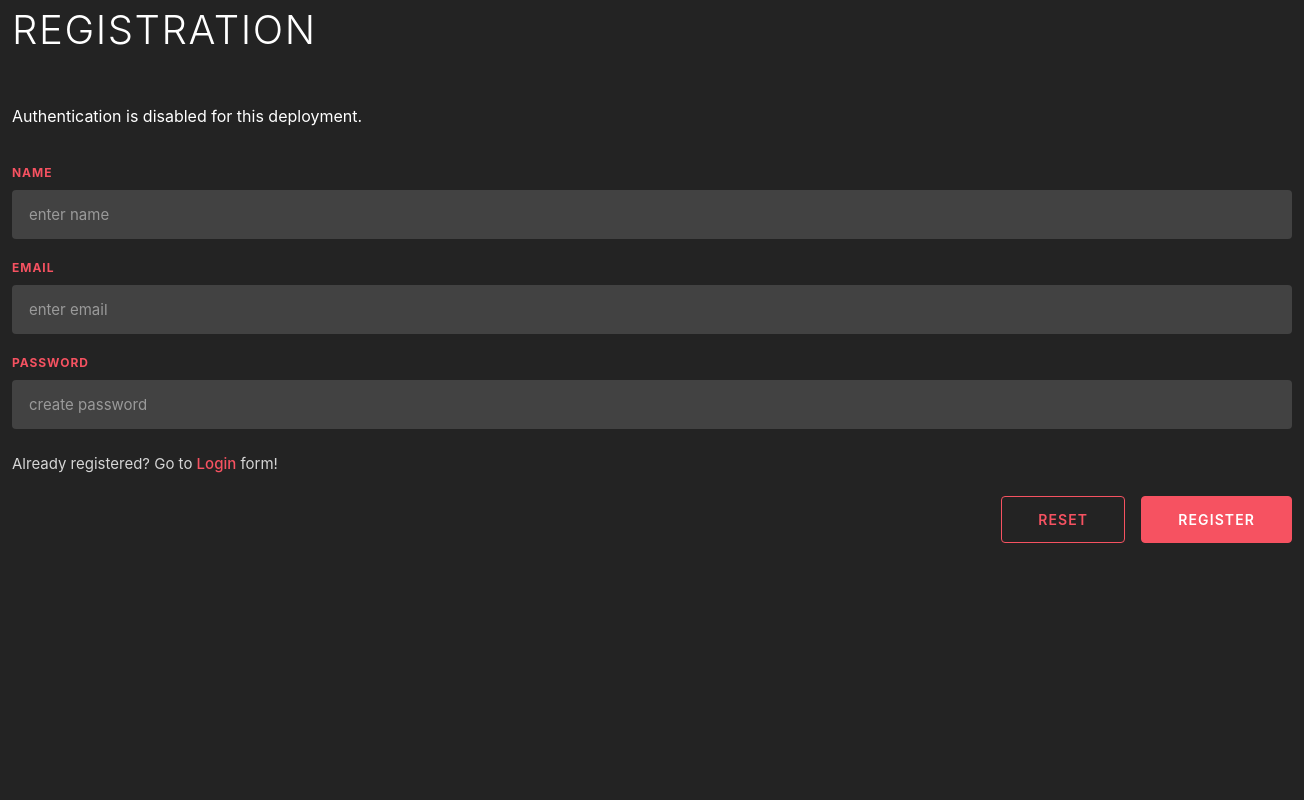
Test: UserForm Component › registration form › shows registration failure without navigating or clearing entered values
Type "Jane" into the field with placeholder "enter name".
click(652, 214); type("Jane")  # box [12,190,1292,239]
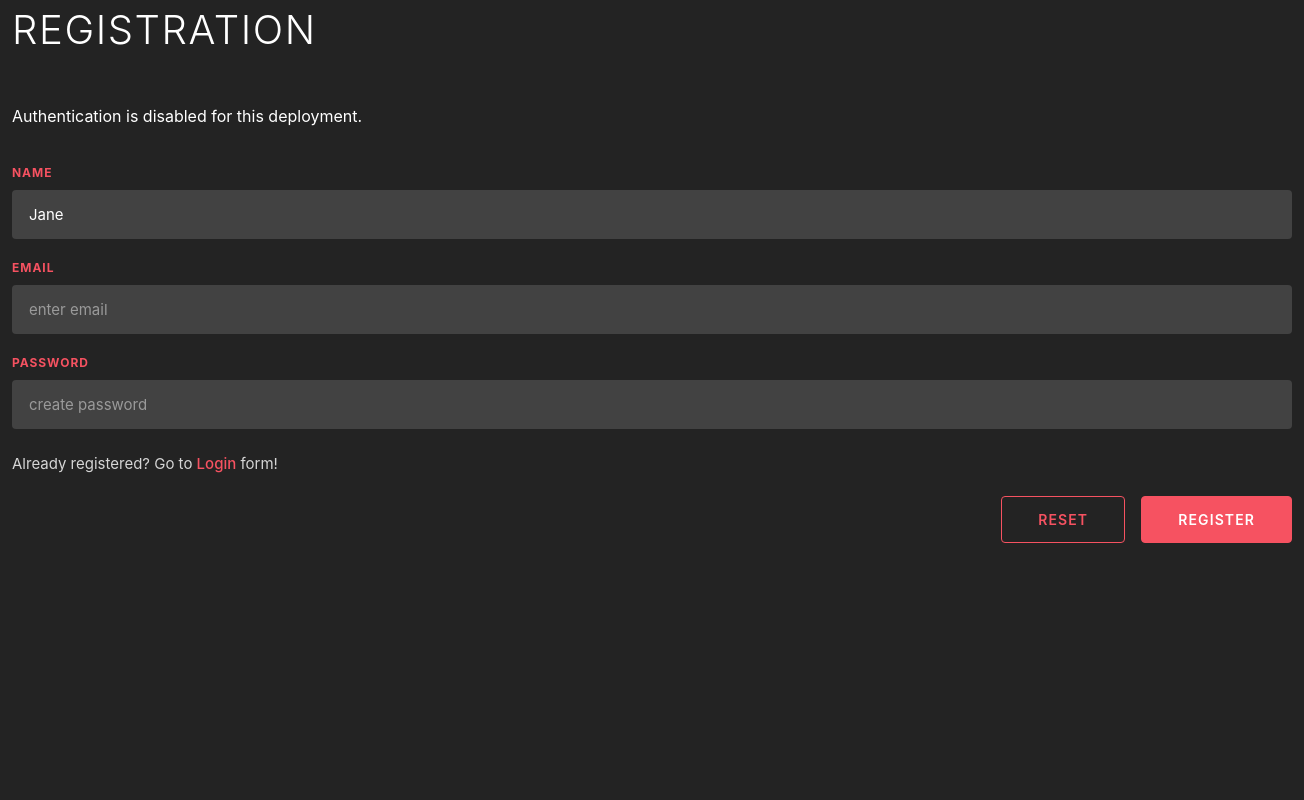
Type "jane@example.com" into the field with placeholder "enter email".
click(652, 310); type("jane@example.com")  # box [12,285,1292,334]
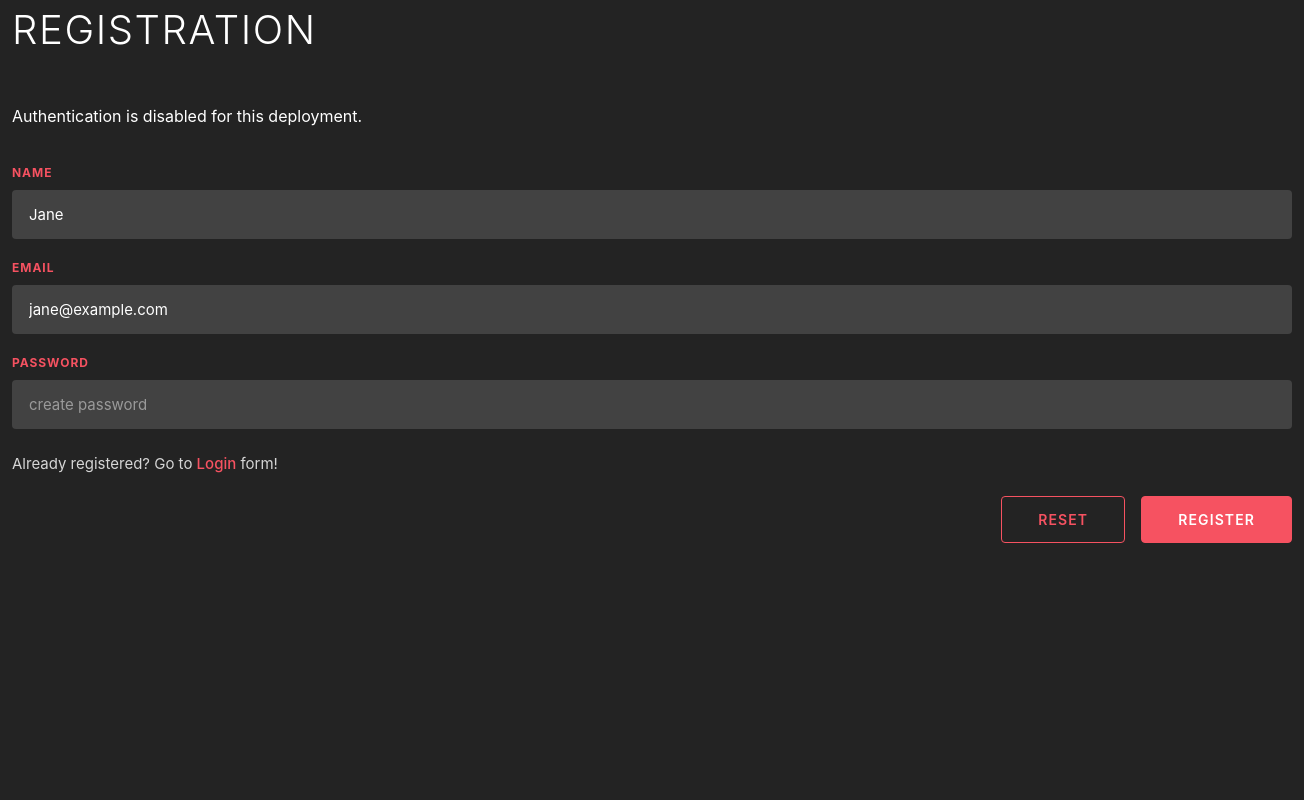
Type "temporary-password" into the password field with placeholder "create password".
click(652, 404); type("temporary-password")  # box [12,380,1292,429]
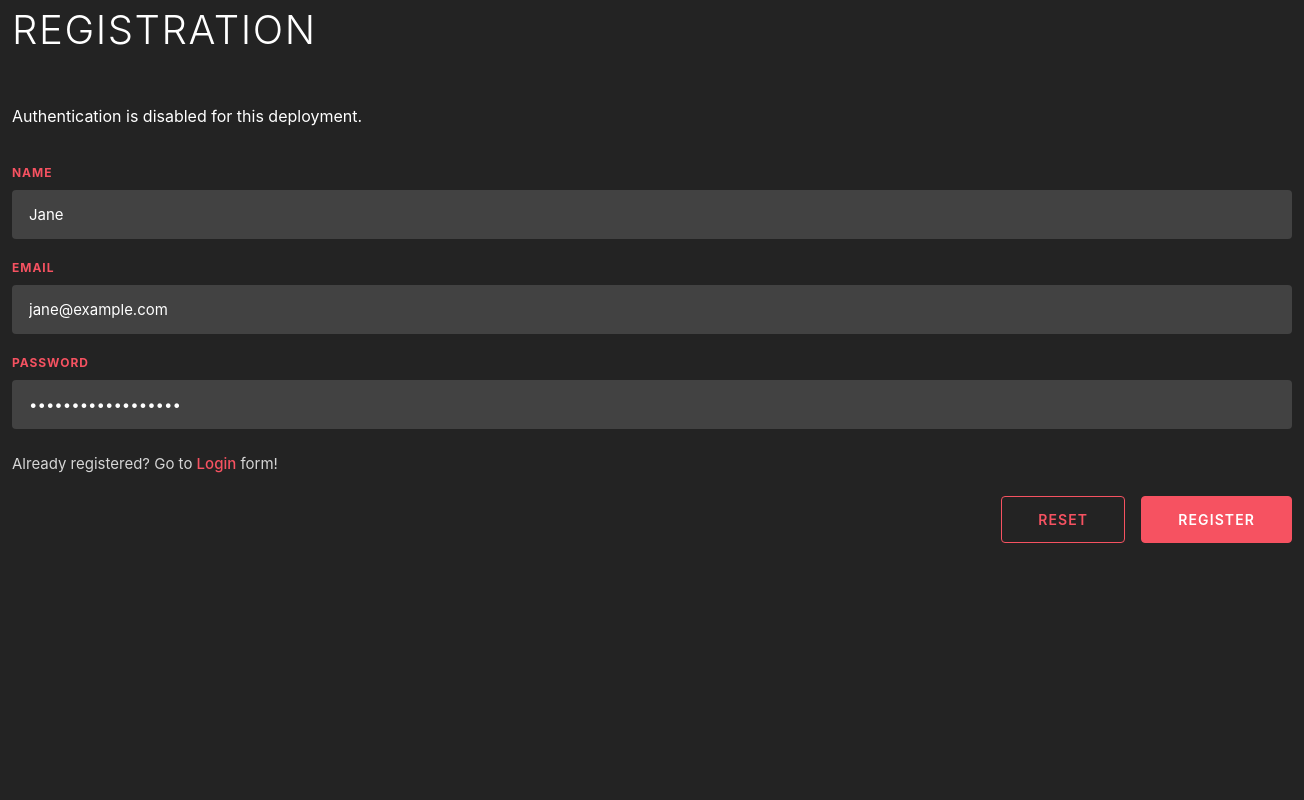
Click the button "REGISTER".
click(1217, 519)  # box [1141,496,1292,542]
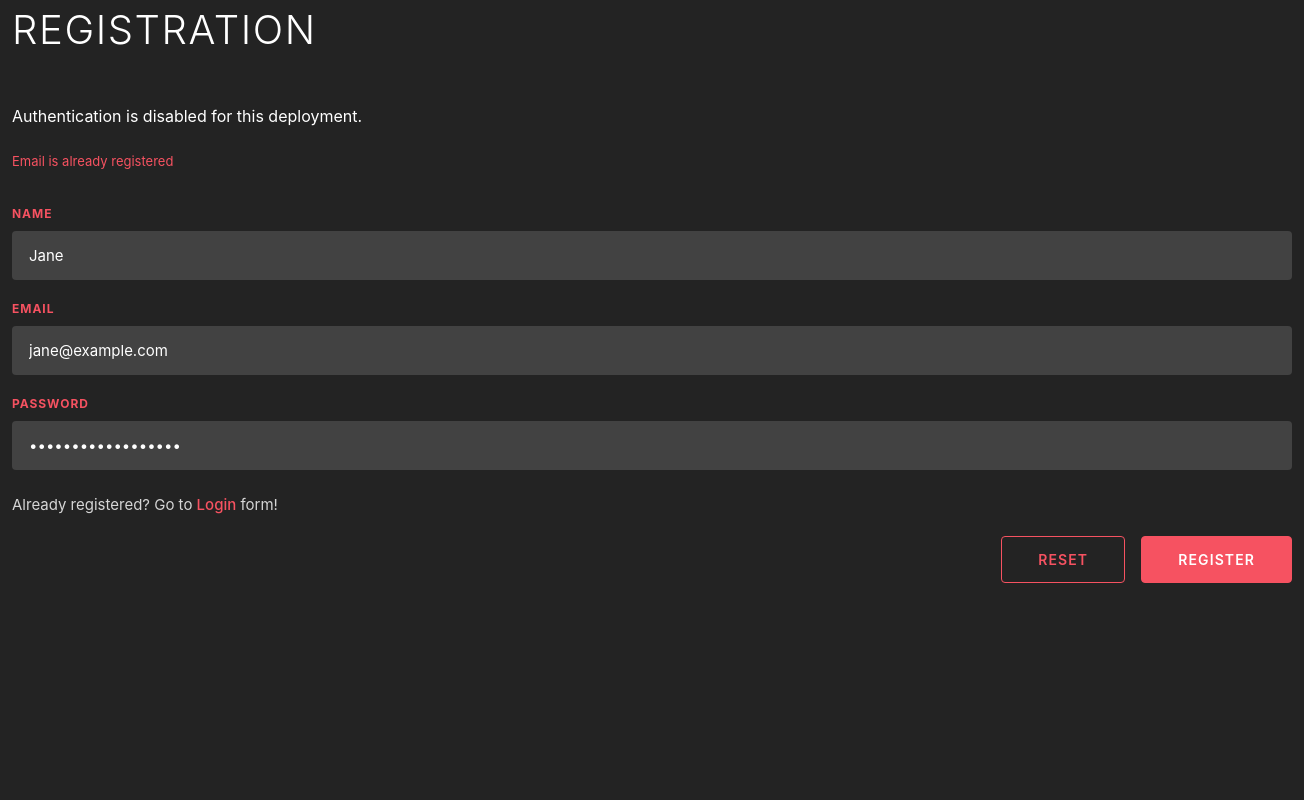
Expected: the message "Email is already registered" is shown, [12,153,173,169]
